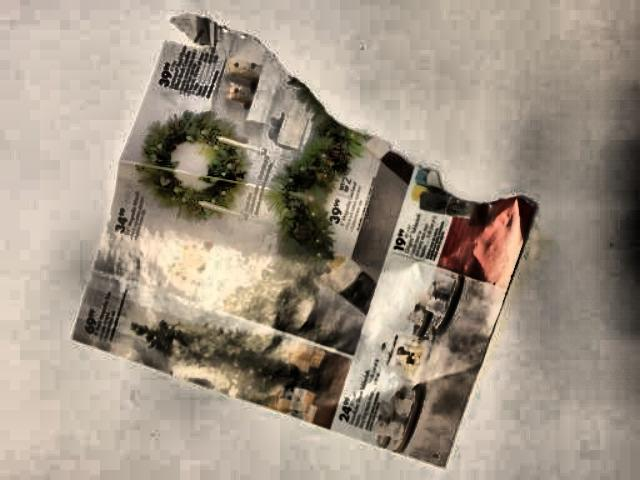Paper: (75, 7, 536, 480)
